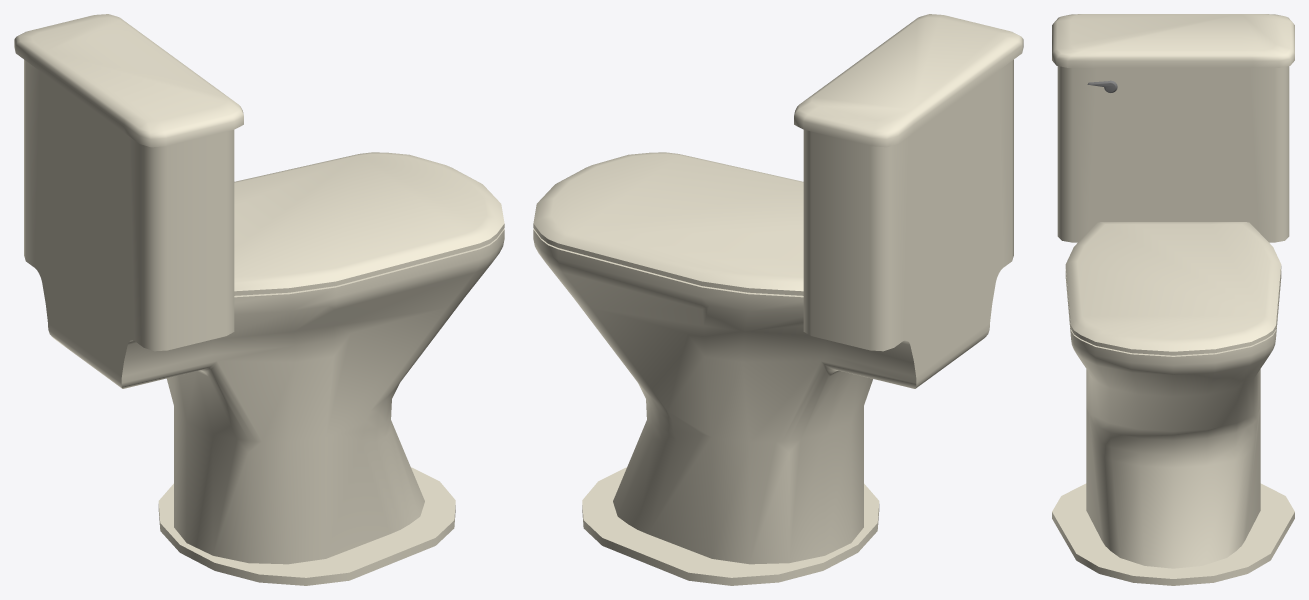
The model's file is Toilet.fbx.
3 views of the same model, side by side, from view 1: azimuth 30°, elevation 25°; view 2: azimuth 150°, elevation 25°; view 3: azimuth 270°, elevation 25° (orthographic). The views are drawn at different scales.
Parts seen in each view (by area): view 1: Circle; view 2: Circle; view 3: Circle.
Boxes of the visible parts, left/top/right/bottom form: Circle: left=14, top=14, right=504, bottom=585; Circle: left=533, top=14, right=1023, bottom=585; Circle: left=1052, top=14, right=1294, bottom=585.
Size of the model in its own units: 123 by 144 by 74.88.
